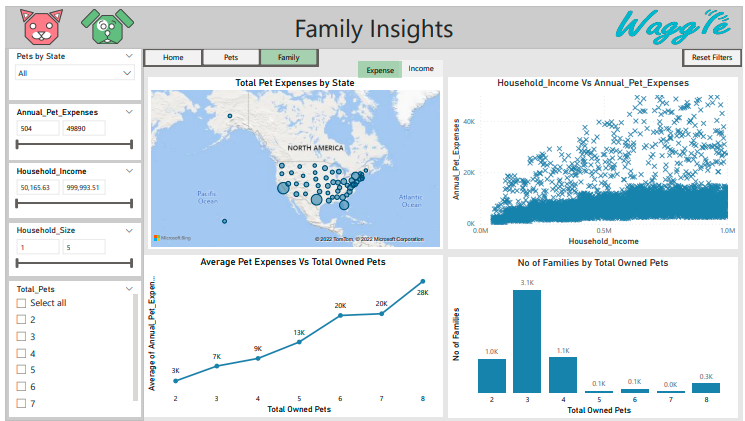

This screenshot's page, from the dashboard's own definition file:
{"tool":"powerbi","page":{"name":"Family Insights","canvas":[1280,720],"ordinal":2},"visuals":[{"type":"shape","box":[0,0,1280,72.9],"z":0,"group":"g1"},{"type":"shape","box":[0,72.5,240.3,647.4],"z":0},{"type":"textbox","box":[365.4,2,549.1,70.5],"z":1000,"group":"g1"},{"type":"slicer","fields":{"Values":["Family_Data.State","Family_Data.City"]},"box":[6.1,72.5,227.6,88.8],"z":1000},{"type":"image","box":[1055.3,0,210.1,72],"z":2000,"group":"g1"},{"type":"slicer","fields":{"Values":["Family_Data.Household_Income"]},"box":[6,273.1,228.4,95.3],"z":2000},{"type":"image","box":[6,0,112.2,72.5],"z":3000,"group":"g1"},{"type":"slicer","fields":{"Values":["Family_Data.Household_Size"]},"box":[6.1,376.7,227.6,90.8],"z":3000},{"type":"image","box":[120.2,0,114.2,69.5],"z":4000,"group":"g1"},{"type":"slicer","fields":{"Values":["Family_Data.Total_Pets"]},"box":[6.1,477.7,227.6,235.8],"z":4000},{"type":"map","title":"Total Pet Expenses by State","fields":{"Category":["Family_Data.State","Family_Data.City"],"Size":["Sum(Family_Data.Annual_Pet_Expenses)"]},"box":[247.3,123.2,510.8,298.8],"z":5000},{"type":"columnChart","title":"No of Families by Total Owned Pets","fields":{"Category":["Family_Data.Total_Pets"],"Y":["CountNonNull(Family_Data.Family_ID)"]},"box":[769.2,435.1,503.7,278.6],"z":6000},{"type":"scatterChart","title":"Household_Income Vs Annual_Pet_Expenses","fields":{"X":["Family_Data.Household_Income"],"Y":["Family_Data.Annual_Pet_Expenses"]},"box":[769.2,122.1,503.7,298.8],"z":7000},{"type":"lineChart","title":"Average Pet Expenses Vs  Total Owned Pets","fields":{"Category":["Family_Data.Total_Pets"],"Y":["Avg(Family_Data.Annual_Pet_Expenses)"]},"box":[240.3,434.1,517.9,279.6],"z":8000},{"type":"slicer","fields":{"Values":["Family_Data.Annual_Pet_Expenses"]},"box":[6.1,170.5,227.6,95.9],"z":9000},{"type":"actionButton","title":"Home","box":[239.9,72.5,103.1,31.6],"z":10000},{"type":"actionButton","title":"Home","box":[341,72.4,102.5,31.8],"z":11000},{"type":"actionButton","title":"Home","box":[1176.9,72.5,103.1,31.6],"z":12000},{"type":"actionButton","title":"Income Off","box":[684.7,93.4,75.4,29.4],"z":14000},{"type":"actionButton","title":"Expense_On","box":[613.5,95.4,75.4,29.4],"z":17000},{"type":"actionButton","title":"Home","box":[440.8,72.4,102.5,31.8],"z":19000},{"type":"group","id":"g1","title":"Banner_Family","box":[0,0,1280,72.9],"z":20000}]}

Visuals, with their boxes in screenshot pixels (x1, y1, x2, y2), scaled from the page's 1280x720 canvas onto the 745x421 screenshot:
shape: crop(0, 0, 744, 43)
shape: crop(0, 42, 140, 420)
textbox: crop(213, 1, 532, 42)
slicer - Family_Data.State x Family_Data.City: crop(4, 42, 136, 94)
image: crop(614, 0, 737, 42)
slicer - Family_Data.Household_Income: crop(3, 160, 136, 215)
image: crop(3, 0, 69, 42)
slicer - Family_Data.Household_Size: crop(4, 220, 136, 273)
image: crop(70, 0, 136, 41)
slicer - Family_Data.Total_Pets: crop(4, 279, 136, 417)
"Total Pet Expenses by State" map: crop(144, 72, 441, 247)
"No of Families by Total Owned Pets" columnChart: crop(448, 254, 741, 417)
"Household_Income Vs Annual_Pet_Expenses" scatterChart: crop(448, 71, 741, 246)
"Average Pet Expenses Vs  Total Owned Pets" lineChart: crop(140, 254, 441, 417)
slicer - Family_Data.Annual_Pet_Expenses: crop(4, 100, 136, 156)
"Home" actionButton: crop(140, 42, 200, 61)
"Home" actionButton: crop(198, 42, 258, 61)
"Home" actionButton: crop(685, 42, 744, 61)
"Income Off" actionButton: crop(399, 55, 442, 72)
"Expense_On" actionButton: crop(357, 56, 401, 73)
"Home" actionButton: crop(257, 42, 316, 61)
"Banner_Family" group: crop(0, 0, 744, 43)
